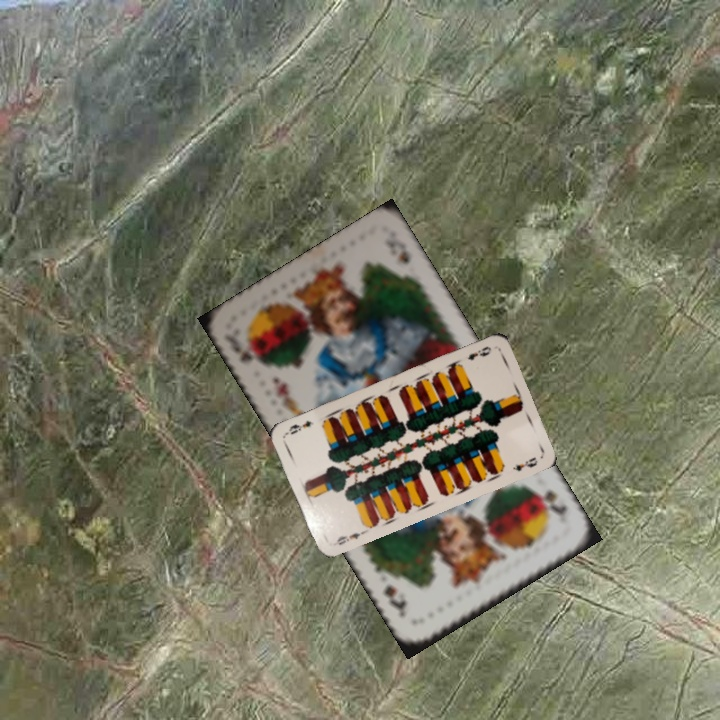E9: (329, 526, 368, 548), (464, 342, 494, 363)
SK: (530, 485, 570, 527), (230, 342, 267, 371)
